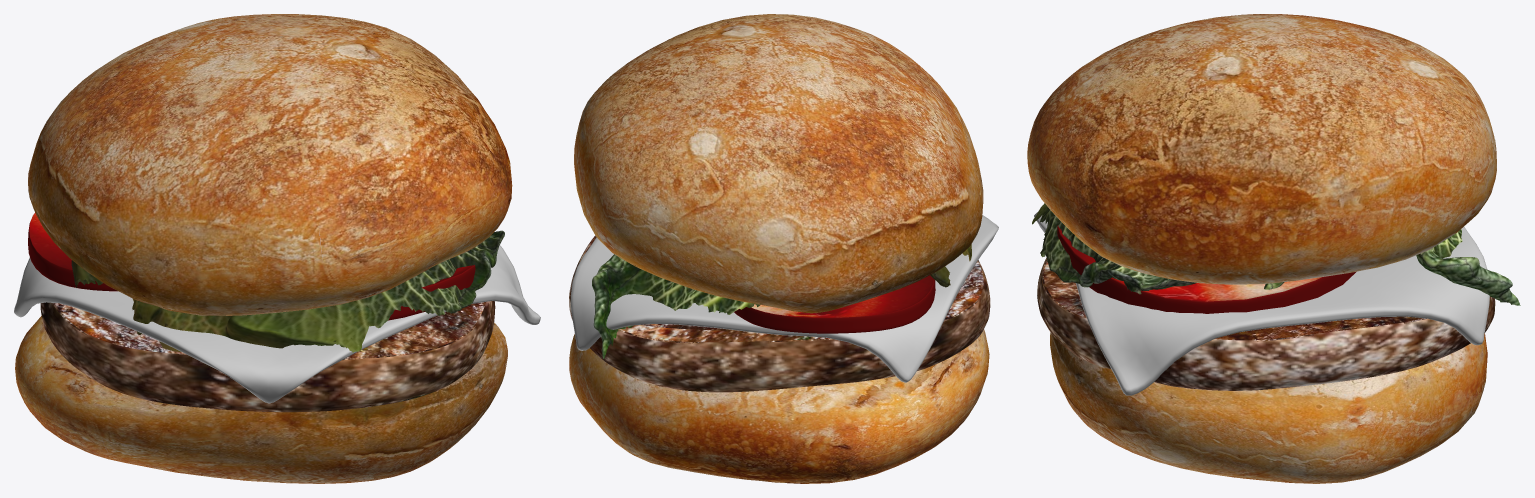
3 renders of one model, left to right at view 1: azimuth 30°, elevation 25°; view 2: azimuth 150°, elevation 25°; view 3: azimuth 270°, elevation 25°, orthographic. The views are drawn at different scales.
Parts seen in each view (by area): view 1: Bread2A_Bread2A_0, Bread2B_Bread2A_0, Patty2, Cheese2, Cabbage2_Cabbage2_0, Tomato003, Tomato2A; view 2: Bread2A_Bread2A_0, Bread2B_Bread2A_0, Patty2, Cheese2, Tomato003, Cabbage2_Cabbage2_0; view 3: Bread2A_Bread2A_0, Bread2B_Bread2A_0, Patty2, Cheese2, Cabbage2_Cabbage2_0, Tomato2A.
Part boxes in pixels (left/top/right/bottom): Bread2A_Bread2A_0: left=28, top=14, right=512, bottom=315; Bread2B_Bread2A_0: left=15, top=316, right=507, bottom=483; Patty2: left=40, top=301, right=495, bottom=412; Cheese2: left=14, top=245, right=540, bottom=403; Cabbage2_Cabbage2_0: left=71, top=230, right=504, bottom=352; Tomato003: left=28, top=212, right=117, bottom=291; Tomato2A: left=388, top=265, right=475, bottom=320; Bread2A_Bread2A_0: left=574, top=14, right=983, bottom=313; Bread2B_Bread2A_0: left=569, top=329, right=989, bottom=483; Patty2: left=569, top=235, right=990, bottom=392; Cheese2: left=570, top=215, right=998, bottom=382; Tomato003: left=734, top=275, right=935, bottom=333; Cabbage2_Cabbage2_0: left=592, top=244, right=971, bottom=358; Bread2A_Bread2A_0: left=1027, top=14, right=1496, bottom=284; Bread2B_Bread2A_0: left=1050, top=332, right=1487, bottom=483; Patty2: left=1037, top=258, right=1495, bottom=390; Cheese2: left=1034, top=212, right=1489, bottom=395; Cabbage2_Cabbage2_0: left=1032, top=203, right=1520, bottom=305; Tomato2A: left=1057, top=225, right=1356, bottom=313.
Bounding box in the file's own units: 27.95 × 25.27 × 29.53.
